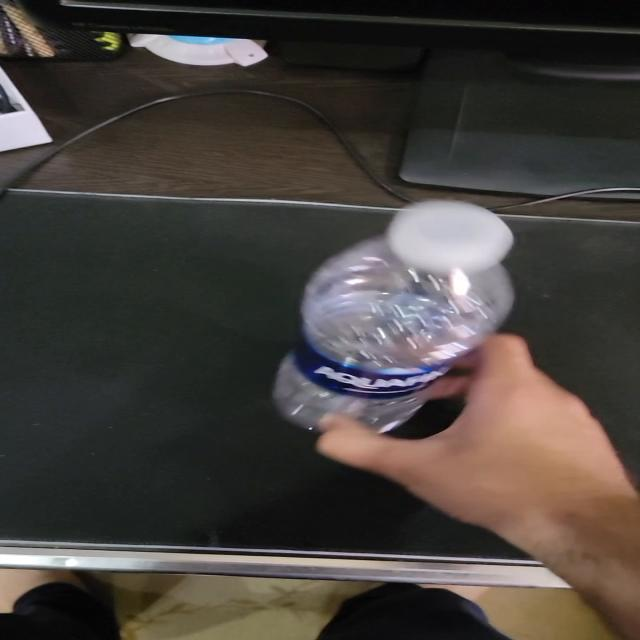Anorganik: (264, 197, 518, 451)
